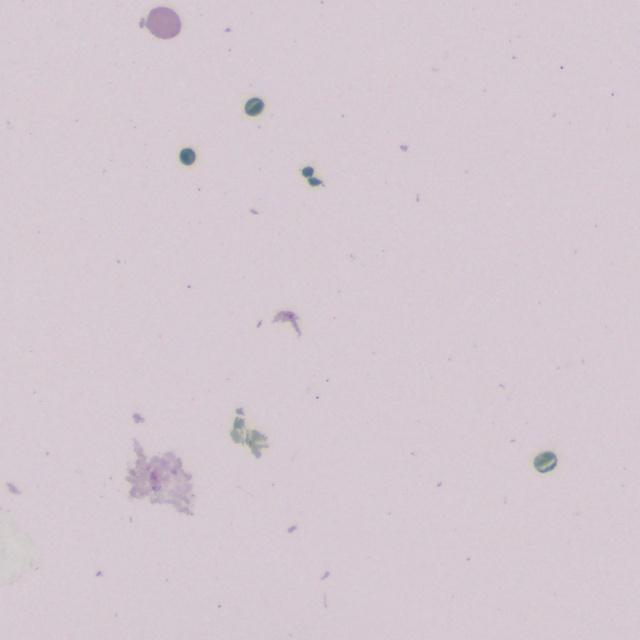intermediate: (142, 7, 180, 38)
non_viable: (533, 451, 556, 472), (244, 97, 264, 116), (179, 148, 195, 165)
